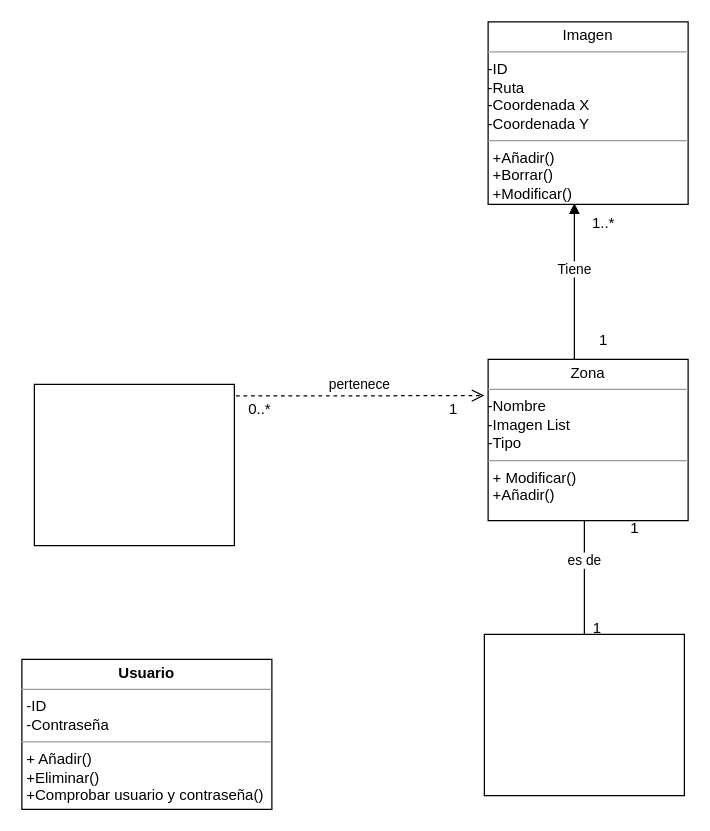
Some shapes in this 710 by 831 pixel diagram are drawn without their labels. Each missing label, with the box of its shape:
2D view --Piso -Número -Imagen + Modificar(): (483, 633, 684, 796)
Aula -Nombre -Ruta imagen -Piso + Modificar() + Añadir(): (33, 383, 234, 546)
